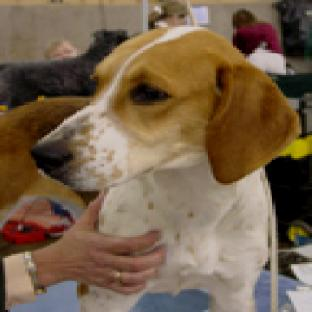Animal: (34, 27, 302, 310)
